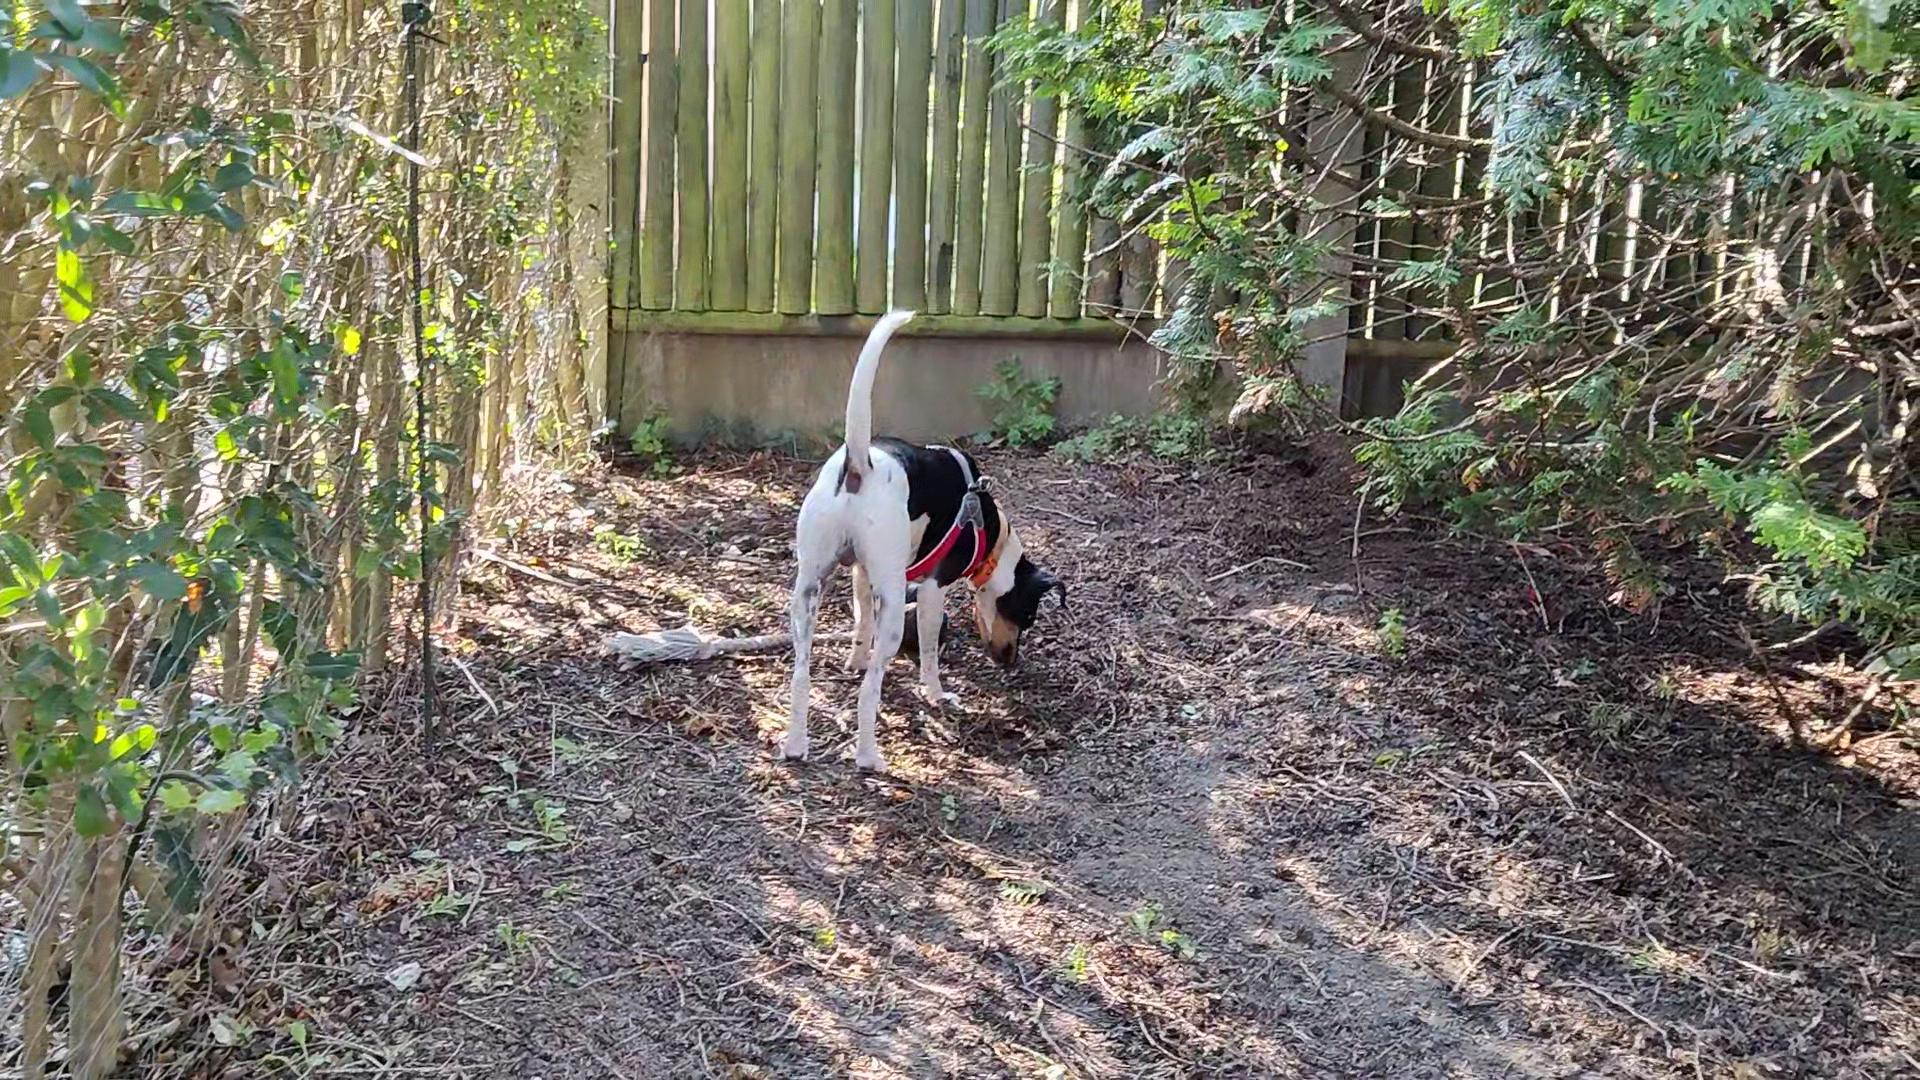Dog: (744, 294, 1076, 799)
